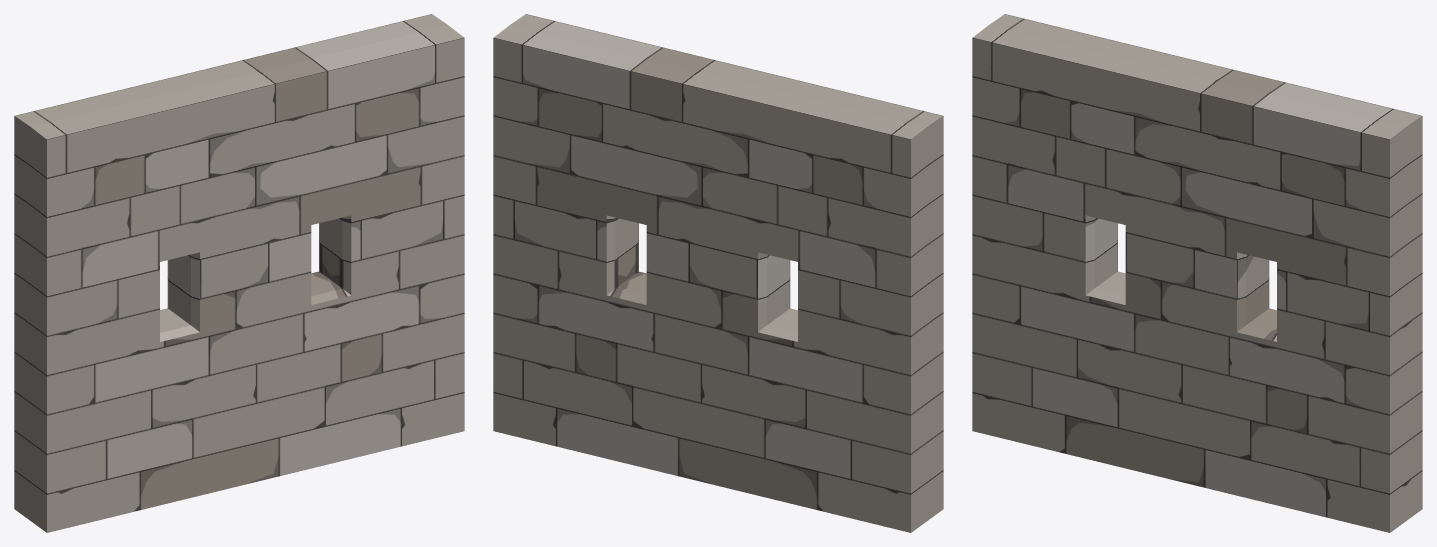
Rendered from SM_Bld_Wall_Large_Window_01.fbx.
3 views of the same model, side by side, from view 1: azimuth 30°, elevation 25°; view 2: azimuth 150°, elevation 25°; view 3: azimuth 330°, elevation 25° (orthographic).
Visible parts, largest first — view 1: SM_Bld_Wall_Large_Window_01; view 2: SM_Bld_Wall_Large_Window_01; view 3: SM_Bld_Wall_Large_Window_01.
Boxes of the visible parts, box(x1,y1,x2,y2) form: SM_Bld_Wall_Large_Window_01: box(14, 14, 464, 532); SM_Bld_Wall_Large_Window_01: box(493, 14, 943, 532); SM_Bld_Wall_Large_Window_01: box(972, 14, 1422, 532).
Bounding box in the file's own units: 500 × 451 × 67.5.
